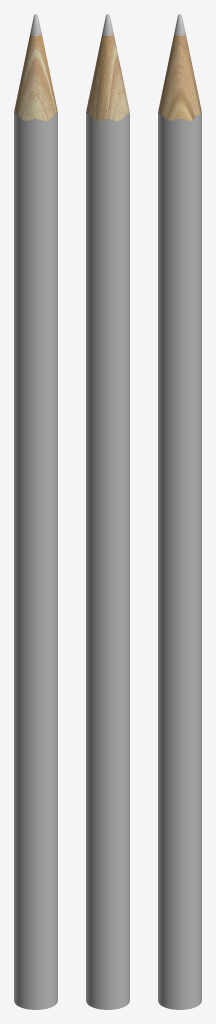
The model's file is pencil.glb.
The picture shows the model from 3 angles, left to right: view 1: azimuth 90°, elevation 25°; view 2: azimuth 150°, elevation 25°; view 3: azimuth 270°, elevation 25°; orthographic projection.
Parts seen in each view (by area): view 1: Object_2, Object_3; view 2: Object_2, Object_3; view 3: Object_2, Object_3.
Part boxes in pixels (x1=…): Object_2: x1=14, y1=14, x2=57, y2=1009; Object_3: x1=14, y1=34, x2=57, y2=120; Object_2: x1=86, y1=14, x2=129, y2=1009; Object_3: x1=86, y1=34, x2=129, y2=121; Object_2: x1=158, y1=14, x2=201, y2=1009; Object_3: x1=158, y1=34, x2=201, y2=120.
Bounding box in the file's own units: 24 × 596 × 24.
2 materials, 1 textured.
